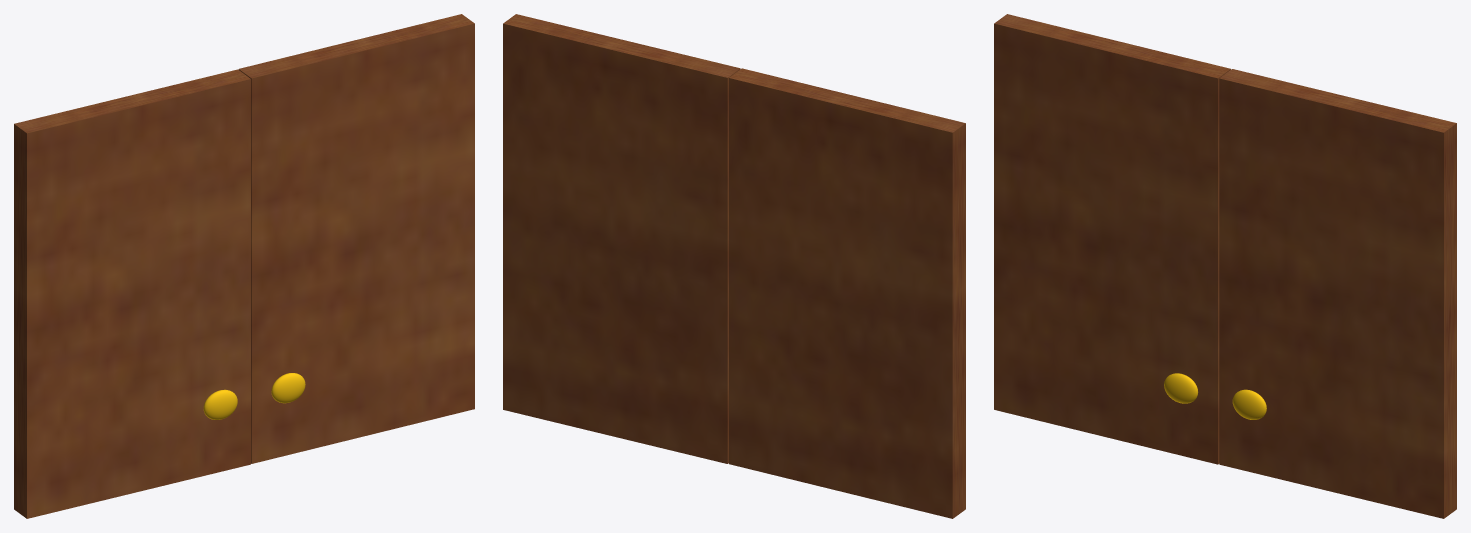
File: Door_new.fbx
3 views of the same model, side by side, from view 1: azimuth 30°, elevation 25°; view 2: azimuth 150°, elevation 25°; view 3: azimuth 330°, elevation 25° (orthographic).
Parts seen in each view (by area): view 1: Cube; view 2: Cube; view 3: Cube.
Part boxes in pixels (x1=…): Cube: x1=14, y1=14, x2=474, y2=518; Cube: x1=503, y1=14, x2=965, y2=518; Cube: x1=994, y1=14, x2=1456, y2=518.
Size of the model in its own units: 11.88 by 9.76 by 0.9352.
Materials: 2 (2 with a texture image).
